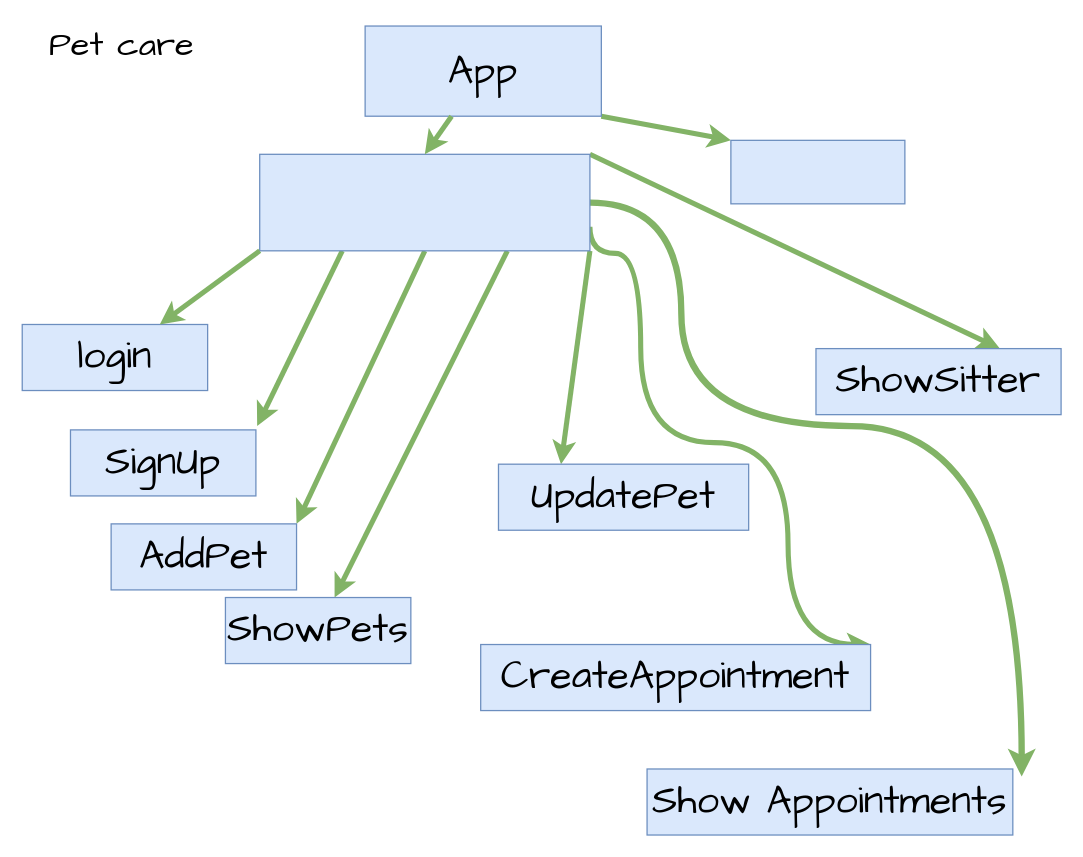
Image size: 1083x857. Some labels were removed from this diagram. Each missing label, with the centre of its shape:
"Header" belongs at (817,171).
"Home/Main" belongs at (424,202).
